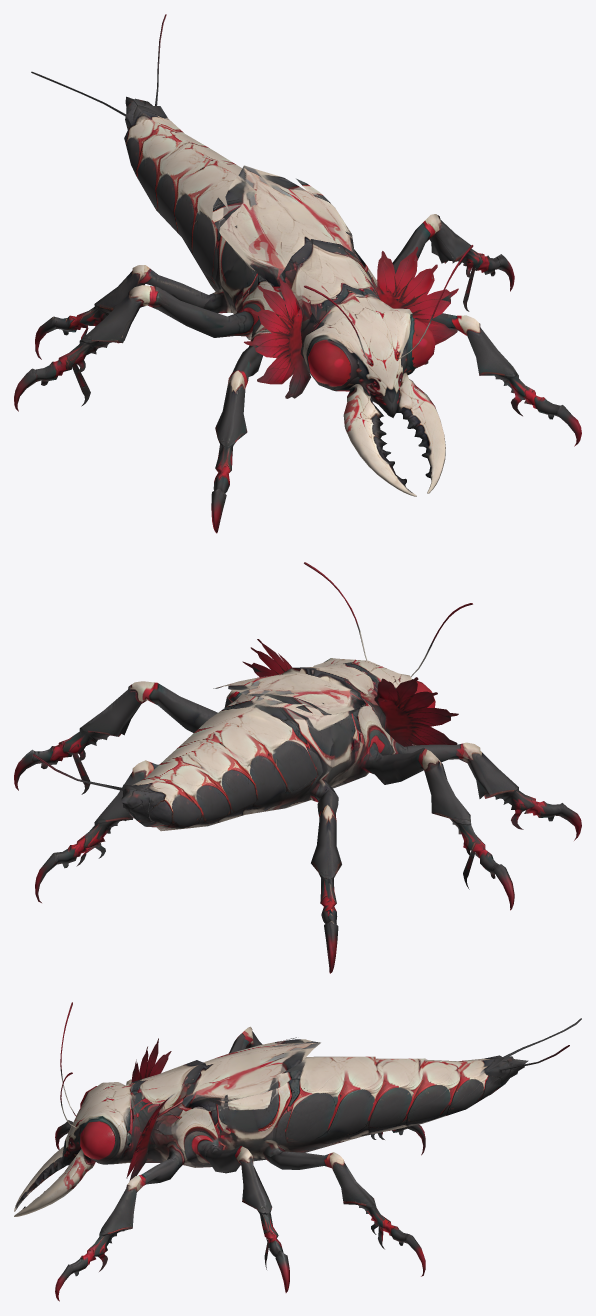
Rendered from dragonfly_nymph_rtp.glb.
3 views of the same model, one above another, from view 1: azimuth 30°, elevation 25°; view 2: azimuth 150°, elevation 25°; view 3: azimuth 270°, elevation 25° (orthographic). The views are drawn at different scales.
Parts seen in each view (by area): view 1: tripo_node_4c148ccb-89dd-437f-b52b-49a421246803; view 2: tripo_node_4c148ccb-89dd-437f-b52b-49a421246803; view 3: tripo_node_4c148ccb-89dd-437f-b52b-49a421246803.
Boxes of the visible parts, <box> form: tripo_node_4c148ccb-89dd-437f-b52b-49a421246803: <box>14,14,581,533</box>; tripo_node_4c148ccb-89dd-437f-b52b-49a421246803: <box>14,562,581,973</box>; tripo_node_4c148ccb-89dd-437f-b52b-49a421246803: <box>14,1002,581,1301</box>.
Size of the model in its own units: 0.8735 by 0.4077 by 0.9995.
1 material, 1 textured.
